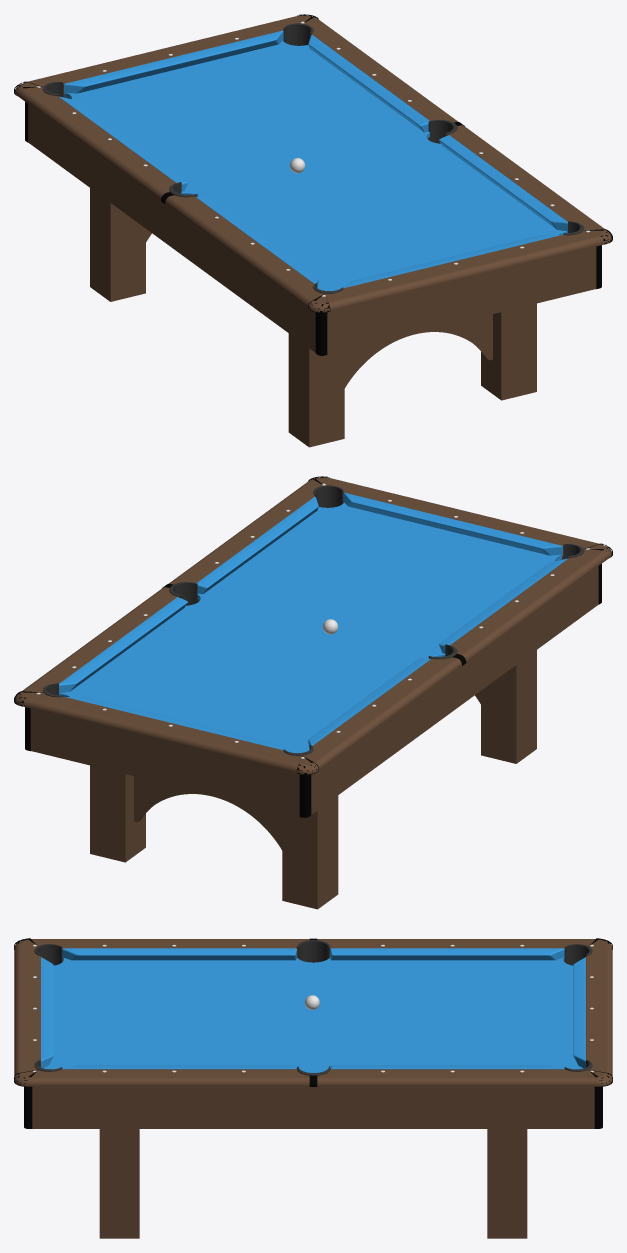
File: table_default.glb
3 renders of one model, top to bottom at view 1: azimuth 30°, elevation 25°; view 2: azimuth 150°, elevation 25°; view 3: azimuth 270°, elevation 25°, orthographic. The views are drawn at different scales.
Visible parts, largest first — view 1: slate, frame, legs, cushion_long, cushion_short, pocket_corner_holder, bevel_3, pocket_side_holder; view 2: slate, frame, legs, cushion_long, cushion_short, pocket_corner_holder, bevel_3, pocket_side_holder; view 3: slate, frame, legs, cushion_long, cushion_short, pocket_corner_holder, pocket_side_holder, bevel_3.
Part boxes in pixels (x1,y1,x2,y2): slate: (65, 40, 567, 290); frame: (15, 15, 611, 354); legs: (90, 188, 536, 447); cushion_long: (58, 34, 567, 287); cushion_short: (64, 30, 561, 287); pocket_corner_holder: (42, 23, 584, 293); bevel_3: (25, 102, 601, 355); pocket_side_holder: (169, 120, 457, 197); slate: (59, 502, 561, 752); frame: (15, 477, 611, 816); legs: (90, 650, 536, 909); cushion_long: (59, 496, 568, 749); cushion_short: (65, 492, 562, 749); pocket_corner_holder: (42, 485, 584, 755); bevel_3: (25, 564, 601, 817); pocket_side_holder: (169, 582, 457, 659); slate: (43, 957, 583, 1072); frame: (14, 939, 612, 1128); legs: (99, 1129, 527, 1238); cushion_long: (62, 948, 564, 1069); cushion_short: (41, 957, 585, 1068); pocket_corner_holder: (34, 944, 592, 1071); pocket_side_holder: (296, 940, 330, 1075); bevel_3: (24, 1086, 602, 1128).
Size of the model in its own units: 1.3 by 0.7622 by 2.29.
